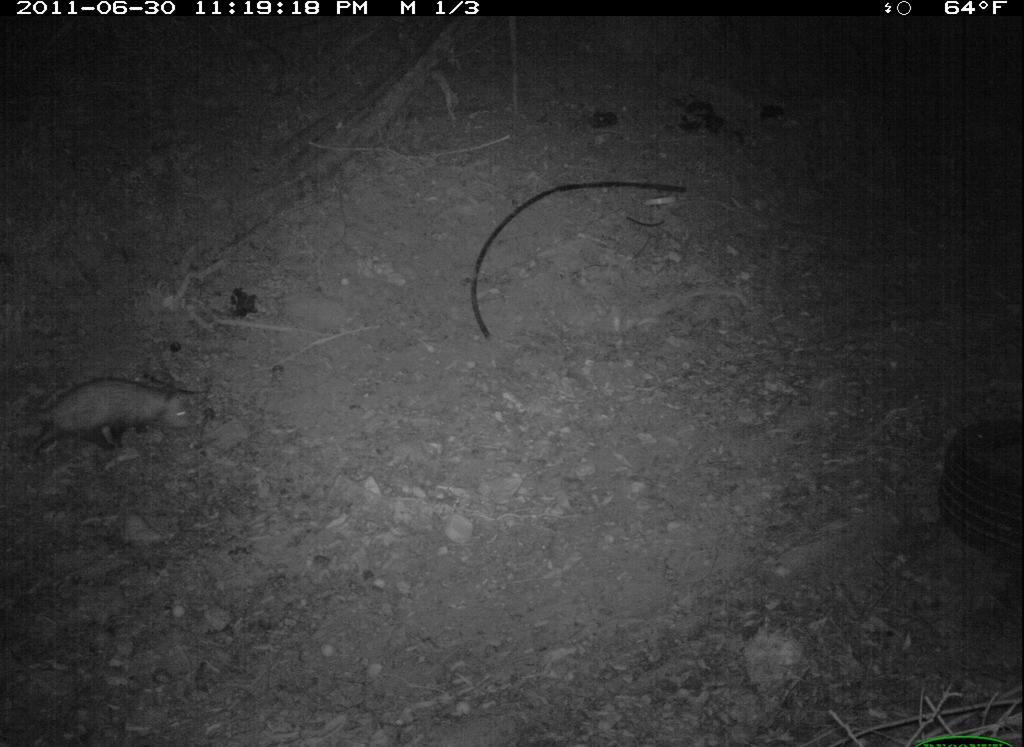opossum: (2, 369, 209, 469)
